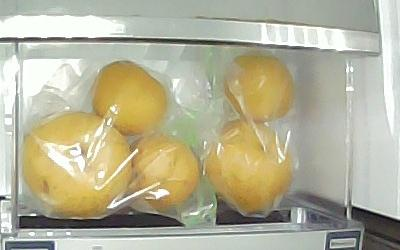pear_vinyl: (20, 112, 133, 219), (204, 119, 293, 214), (91, 60, 168, 137), (127, 136, 200, 212), (223, 50, 296, 121)
